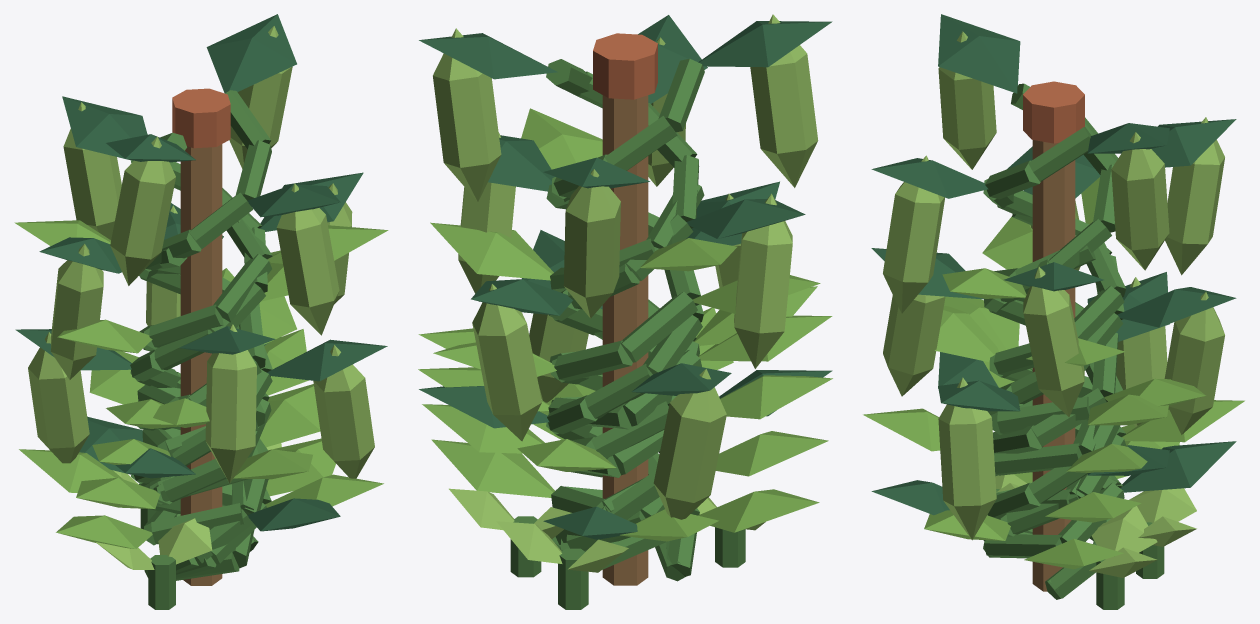
The model's file is beans.glb.
The picture shows the model from 3 angles, left to right: view 1: azimuth 30°, elevation 25°; view 2: azimuth 150°, elevation 25°; view 3: azimuth 270°, elevation 25°; orthographic projection. The views are drawn at different scales.
Visible parts, largest first — view 1: Bean_climbing_pole, Bean_ripe_hanging_pod.009, Bean_ripe_hanging_pod.006, Bean_ripe_hanging_pod.003, Bean_ripe_hanging_pod, Bean_ripe_hanging_pod.005, Bean_ripe_hanging_pod.002, Bean_broad_leaf.024, Bean_ripe_hanging_pod.008, Bean_pole_copper_cap, Bean_broad_leaf.030, Bean_ripe_hanging_pod.004 (+51 smaller); view 2: Bean_climbing_pole, Bean_ripe_hanging_pod.004, Bean_ripe_hanging_pod.005, Bean_ripe_hanging_pod.009, Bean_ripe_hanging_pod.002, Bean_ripe_hanging_pod.001, Bean_ripe_hanging_pod.008, Bean_pole_copper_cap, Bean_broad_leaf.016, Bean_broad_leaf.004, Bean_broad_leaf.031, Bean_broad_leaf.024 (+60 smaller); view 3: Bean_ripe_hanging_pod, Bean_ripe_hanging_pod.004, Bean_ripe_hanging_pod.007, Bean_ripe_hanging_pod.003, Bean_climbing_pole, Bean_ripe_hanging_pod.008, Bean_ripe_hanging_pod.001, Bean_ripe_hanging_pod.006, Bean_ripe_hanging_pod.009, Bean_broad_leaf.031, Bean_pole_copper_cap, Bean_broad_leaf.018 (+57 smaller).
Boxes of the visible parts, x1,y1,x2,y2 form: Bean_climbing_pole: (180, 144, 222, 585); Bean_ripe_hanging_pod.009: (110, 136, 175, 285); Bean_ripe_hanging_pod.006: (205, 324, 256, 483); Bean_ripe_hanging_pod.003: (276, 183, 339, 335); Bean_ripe_hanging_pod: (313, 344, 374, 478); Bean_ripe_hanging_pod.005: (28, 332, 89, 463); Bean_ripe_hanging_pod.002: (50, 243, 103, 379); Bean_broad_leaf.024: (206, 14, 296, 93); Bean_ripe_hanging_pod.008: (63, 102, 121, 239); Bean_pole_copper_cap: (172, 88, 230, 148); Bean_broad_leaf.030: (62, 96, 147, 160); Bean_ripe_hanging_pod.004: (229, 26, 292, 168); Bean_climbing_pole: (602, 95, 648, 585); Bean_ripe_hanging_pod.004: (433, 28, 501, 201); Bean_ripe_hanging_pod.005: (653, 368, 726, 519); Bean_ripe_hanging_pod.009: (750, 14, 818, 187); Bean_ripe_hanging_pod.002: (734, 193, 792, 368); Bean_ripe_hanging_pod.001: (472, 284, 541, 441); Bean_ripe_hanging_pod.008: (563, 169, 620, 318); Bean_pole_copper_cap: (593, 33, 657, 99); Bean_broad_leaf.016: (430, 222, 553, 280); Bean_broad_leaf.004: (431, 439, 554, 497); Bean_broad_leaf.031: (698, 21, 832, 67); Bean_broad_leaf.024: (419, 33, 557, 79); Bean_ripe_hanging_pod: (938, 377, 996, 540); Bean_ripe_hanging_pod.004: (1111, 132, 1169, 270); Bean_ripe_hanging_pod.007: (1023, 266, 1084, 417); Bean_ripe_hanging_pod.003: (883, 155, 944, 313); Bean_climbing_pole: (1032, 140, 1075, 591); Bean_ripe_hanging_pod.008: (1165, 117, 1224, 275); Bean_ripe_hanging_pod.001: (1164, 292, 1224, 434); Bean_ripe_hanging_pod.006: (883, 294, 945, 396); Bean_ripe_hanging_pod.009: (938, 31, 996, 169); Bean_broad_leaf.031: (938, 14, 1020, 93); Bean_pole_copper_cap: (1023, 81, 1084, 143); Bean_broad_leaf.018: (1120, 441, 1236, 492).
Bounding box in the file's own units: 0.68 × 0.9926 × 0.6775.
